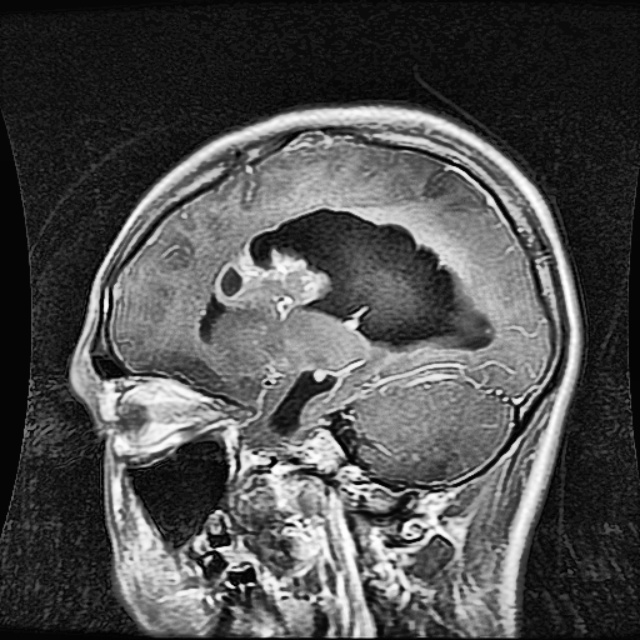Meningioma: (199, 204, 493, 345)
